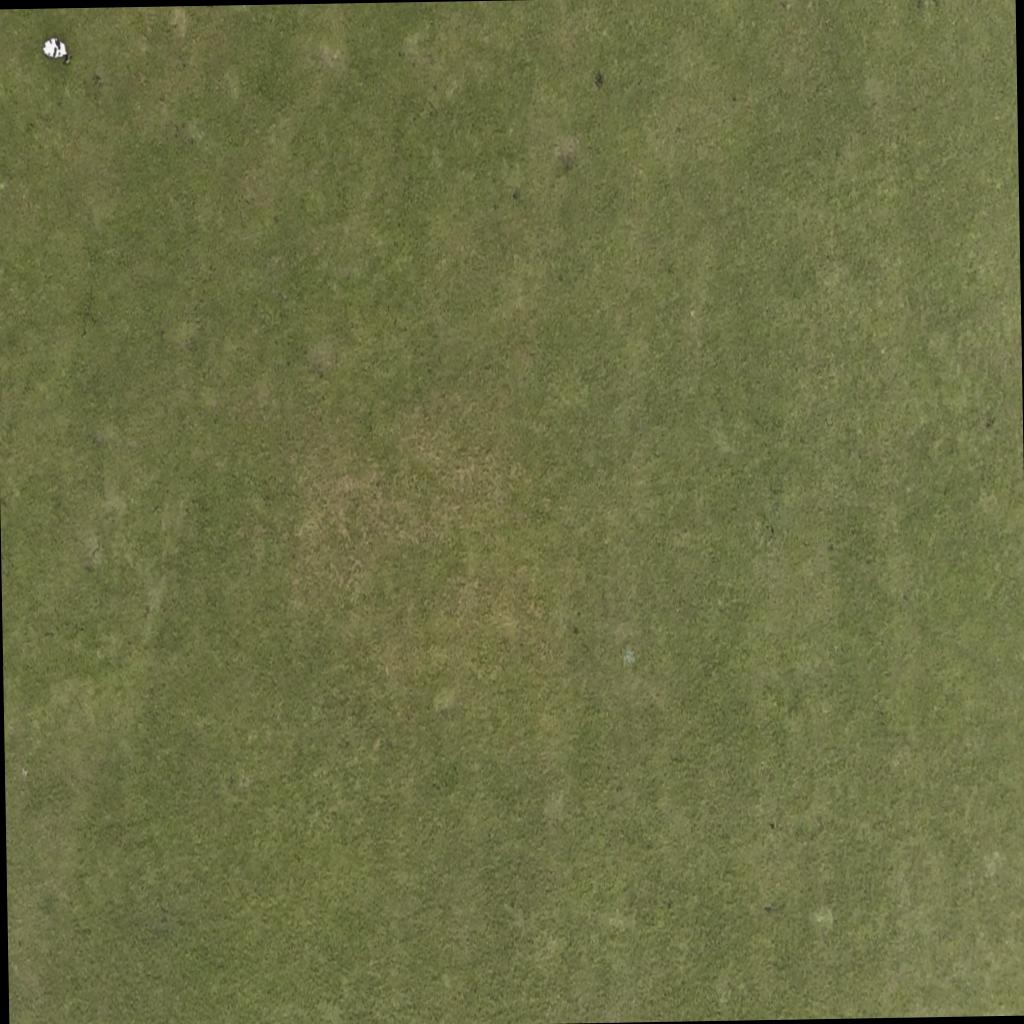cow: (44, 33, 70, 61)
